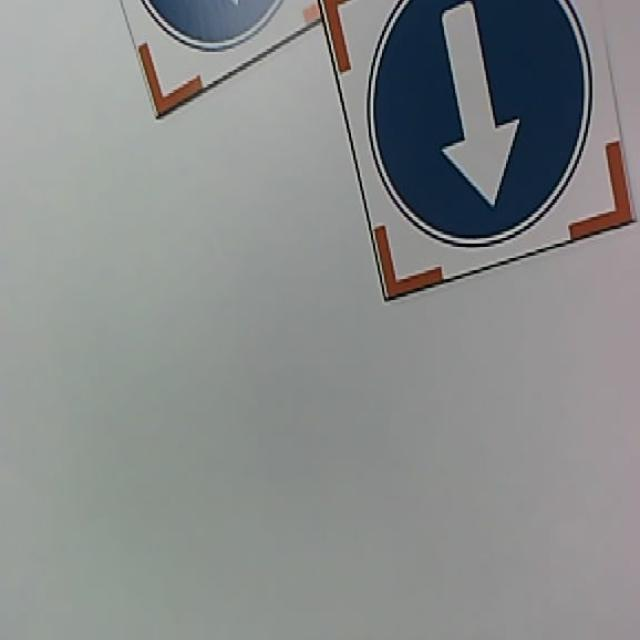straight: (64, 0, 640, 321)
